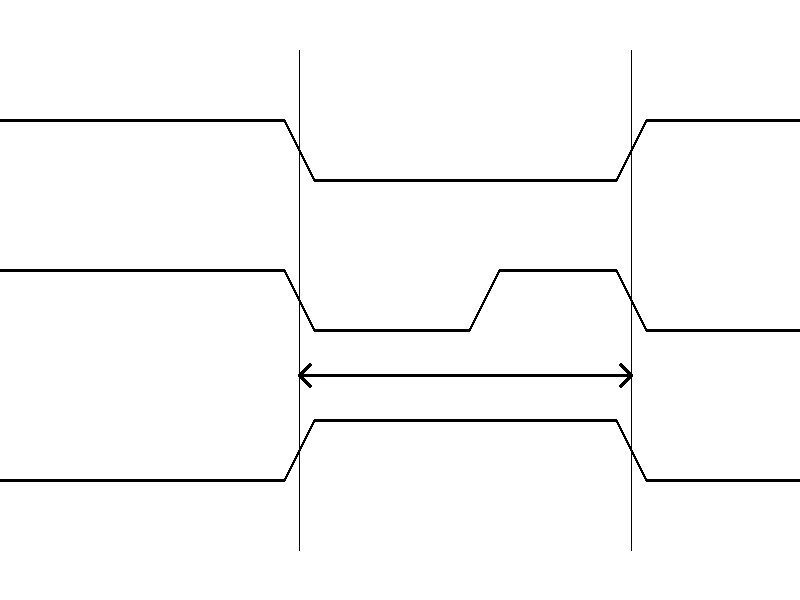double_arrow: (299, 360, 631, 390)
